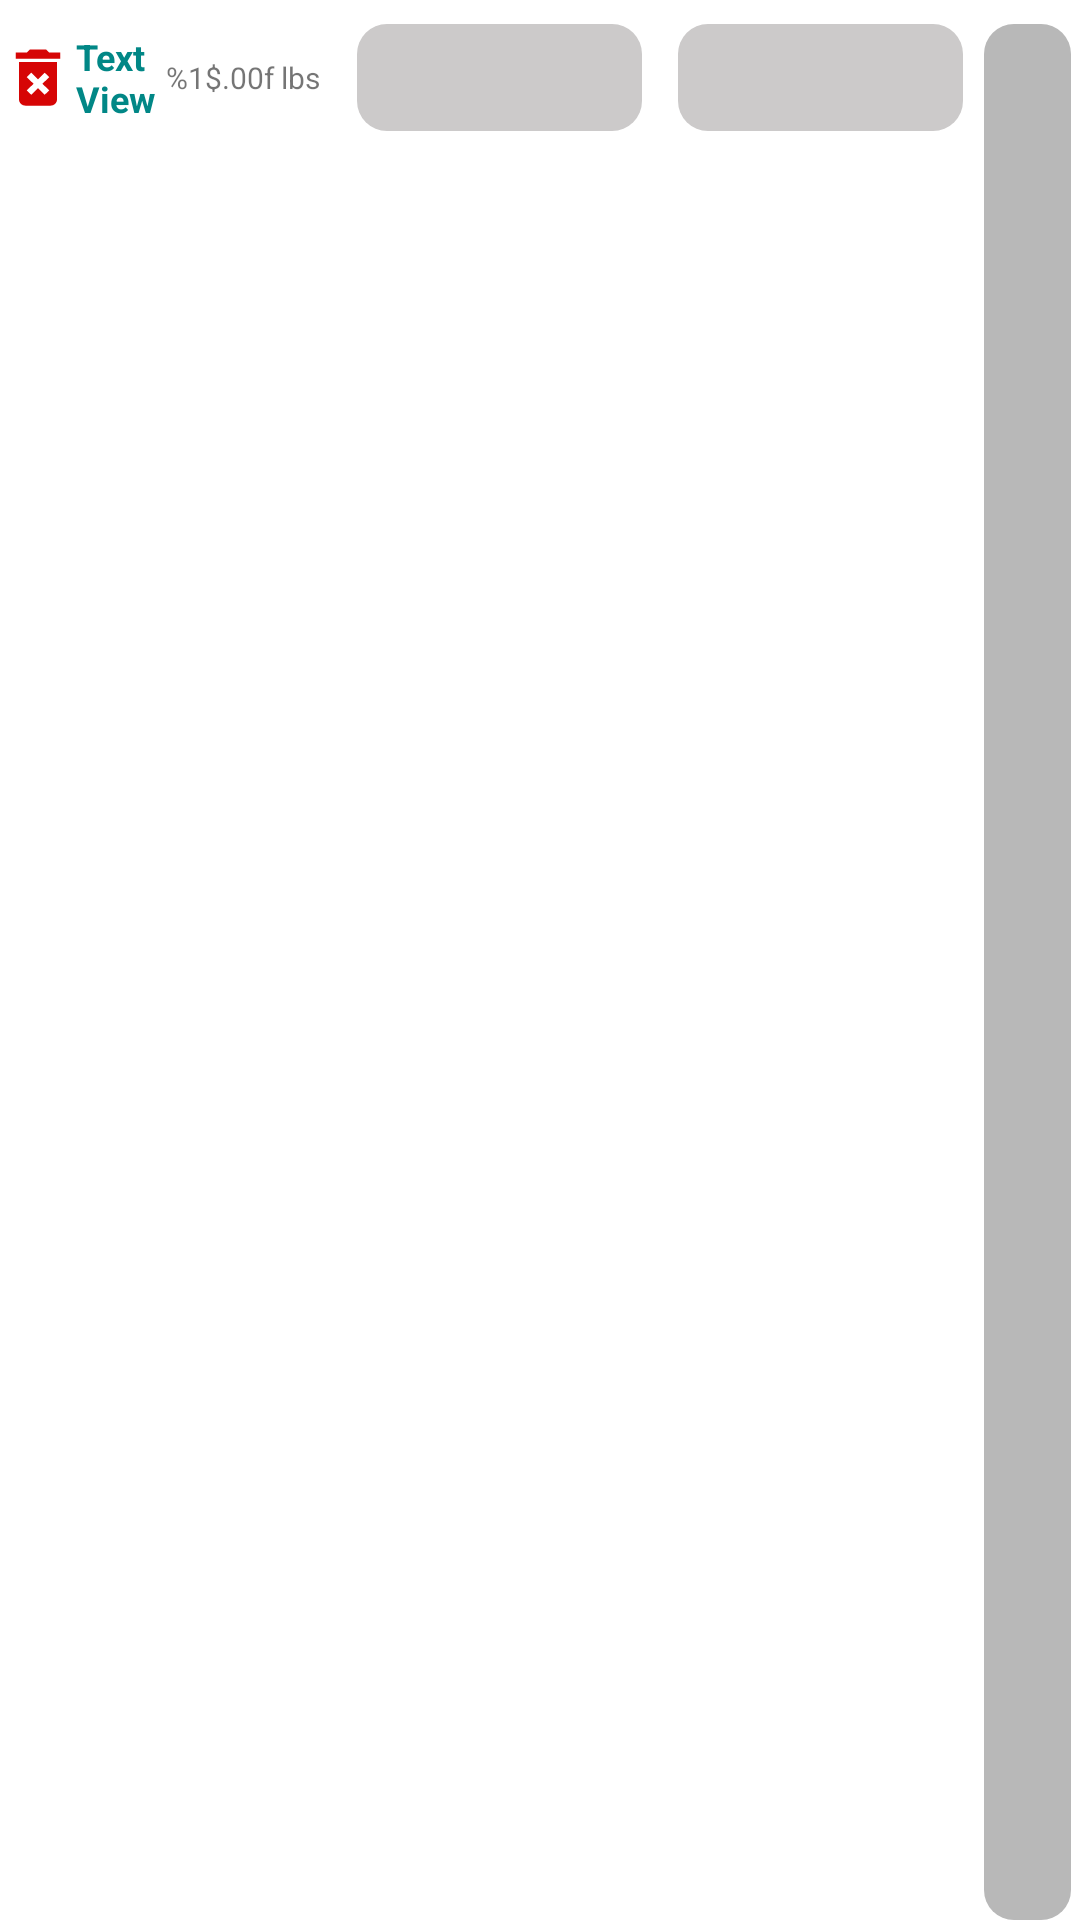

Named icons in this screenshot (1080 × 1920) and their bounding boxes, (x1, y1, x2, y2):
delete forever: (15, 49, 61, 106)
